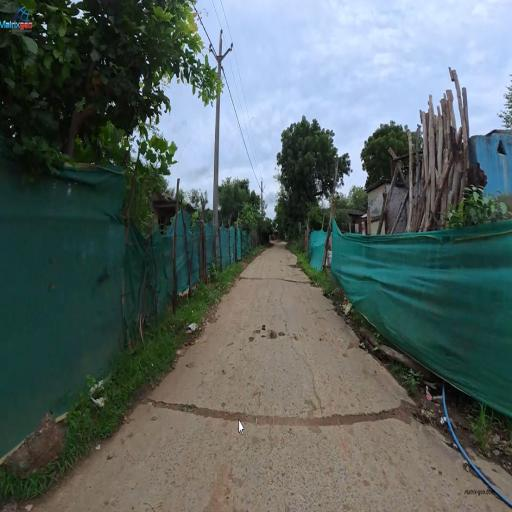longitudinal_crack: (163, 385, 390, 460)
